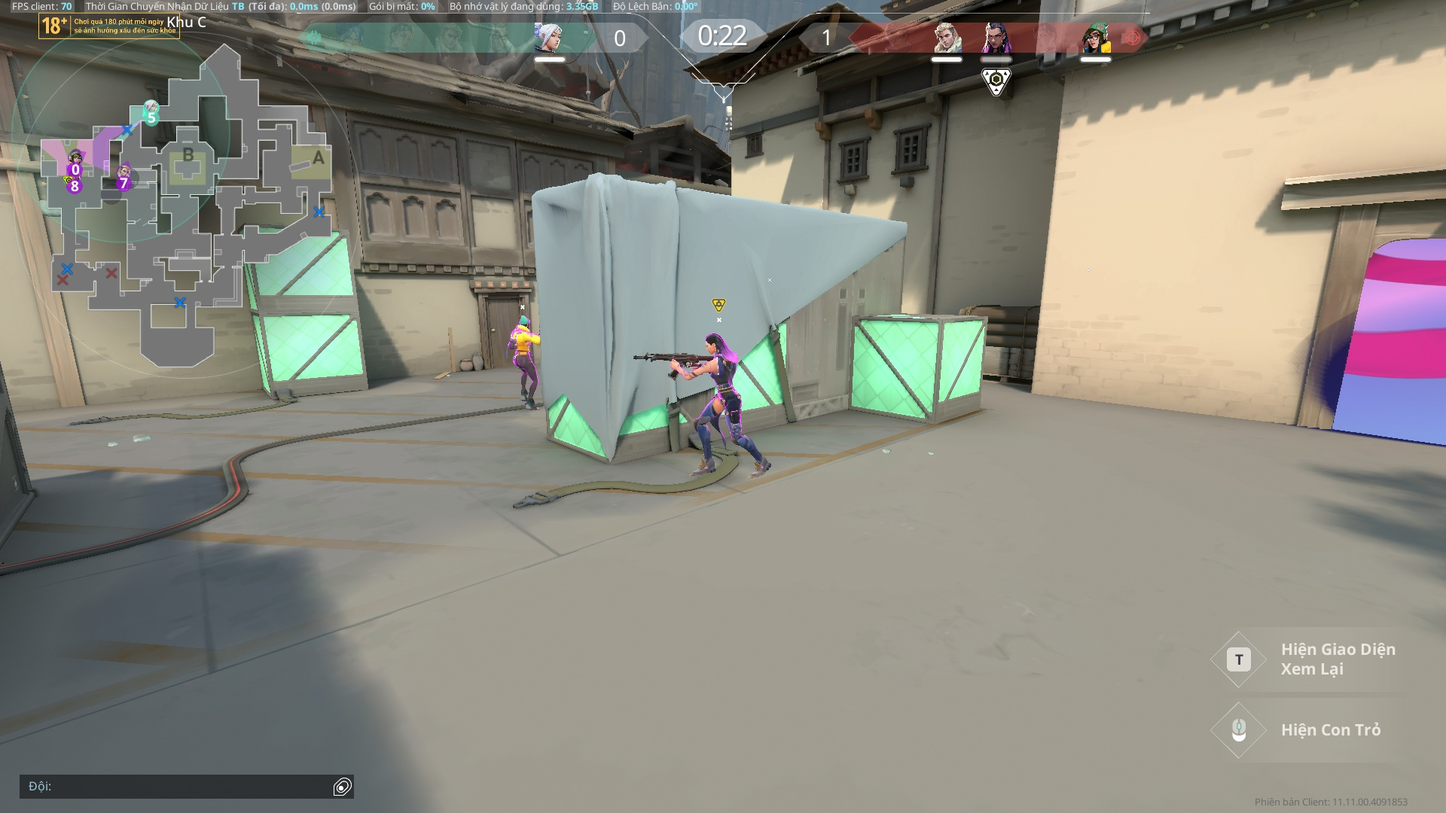body: (706, 353, 738, 391), (511, 325, 535, 350)
head: (703, 335, 723, 353), (517, 316, 531, 328)
